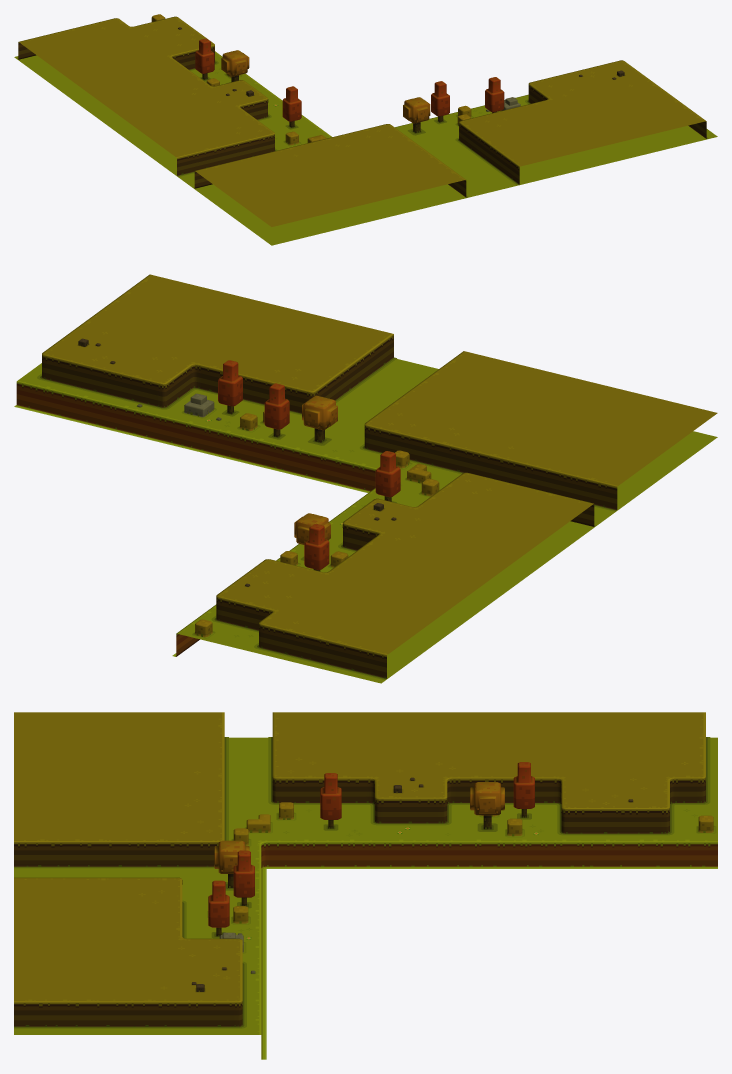
File: C_grass2_out_RU.fbx
3 views of the same model, one above another, from view 1: azimuth 30°, elevation 25°; view 2: azimuth 150°, elevation 25°; view 3: azimuth 270°, elevation 25° (orthographic). The views are drawn at different scales.
Parts seen in each view (by area): view 1: C_grass2_out_RU; view 2: C_grass2_out_RU; view 3: C_grass2_out_RU.
Boxes of the visible parts, x1,y1,x2,y2 form: C_grass2_out_RU: (14, 14, 717, 245); C_grass2_out_RU: (14, 274, 717, 683); C_grass2_out_RU: (14, 712, 717, 1059).
Bounding box in the file's own units: 117 × 14.32 × 117.
